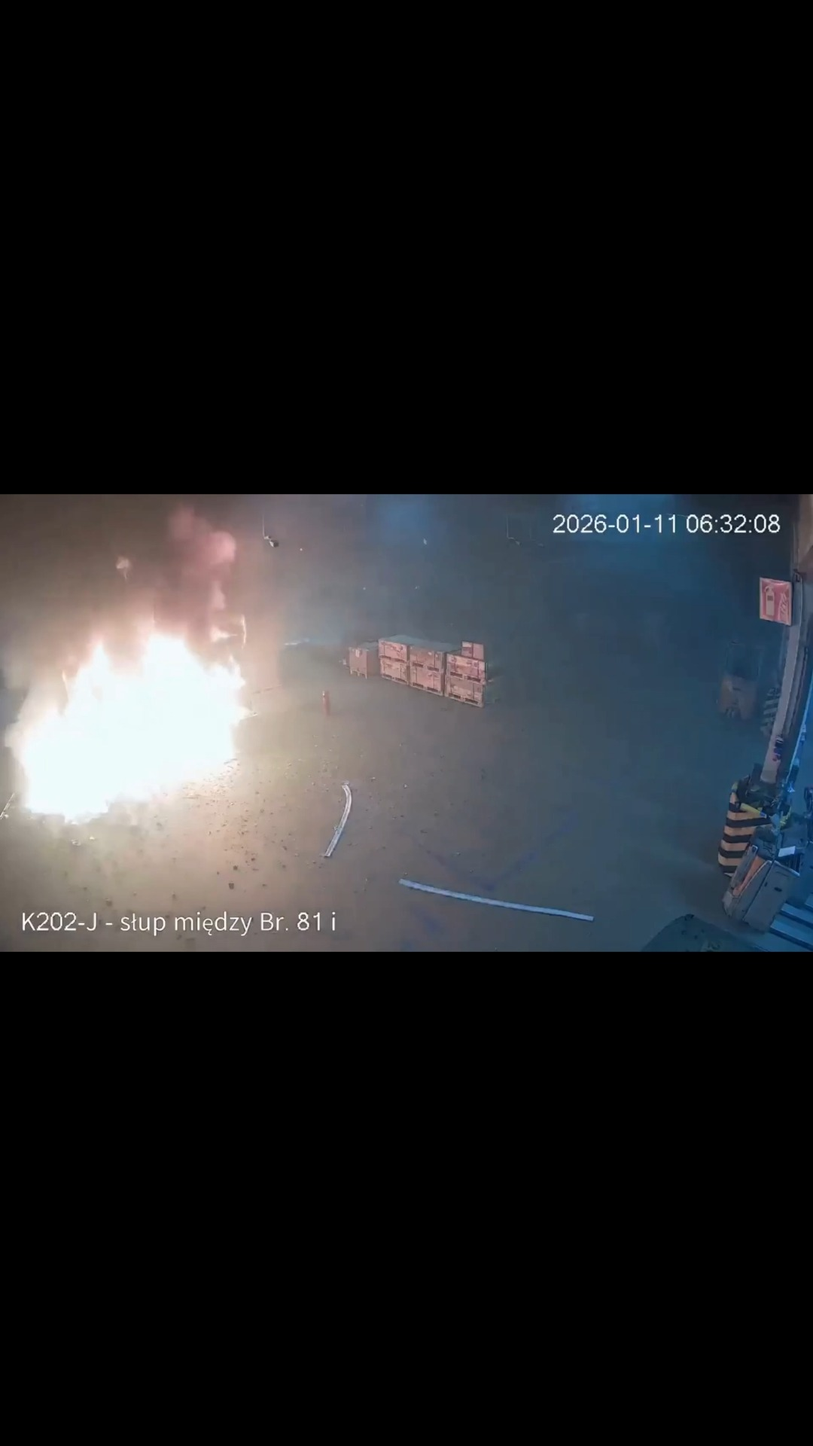fire: (11, 610, 257, 829)
smoke: (1, 496, 300, 698)
